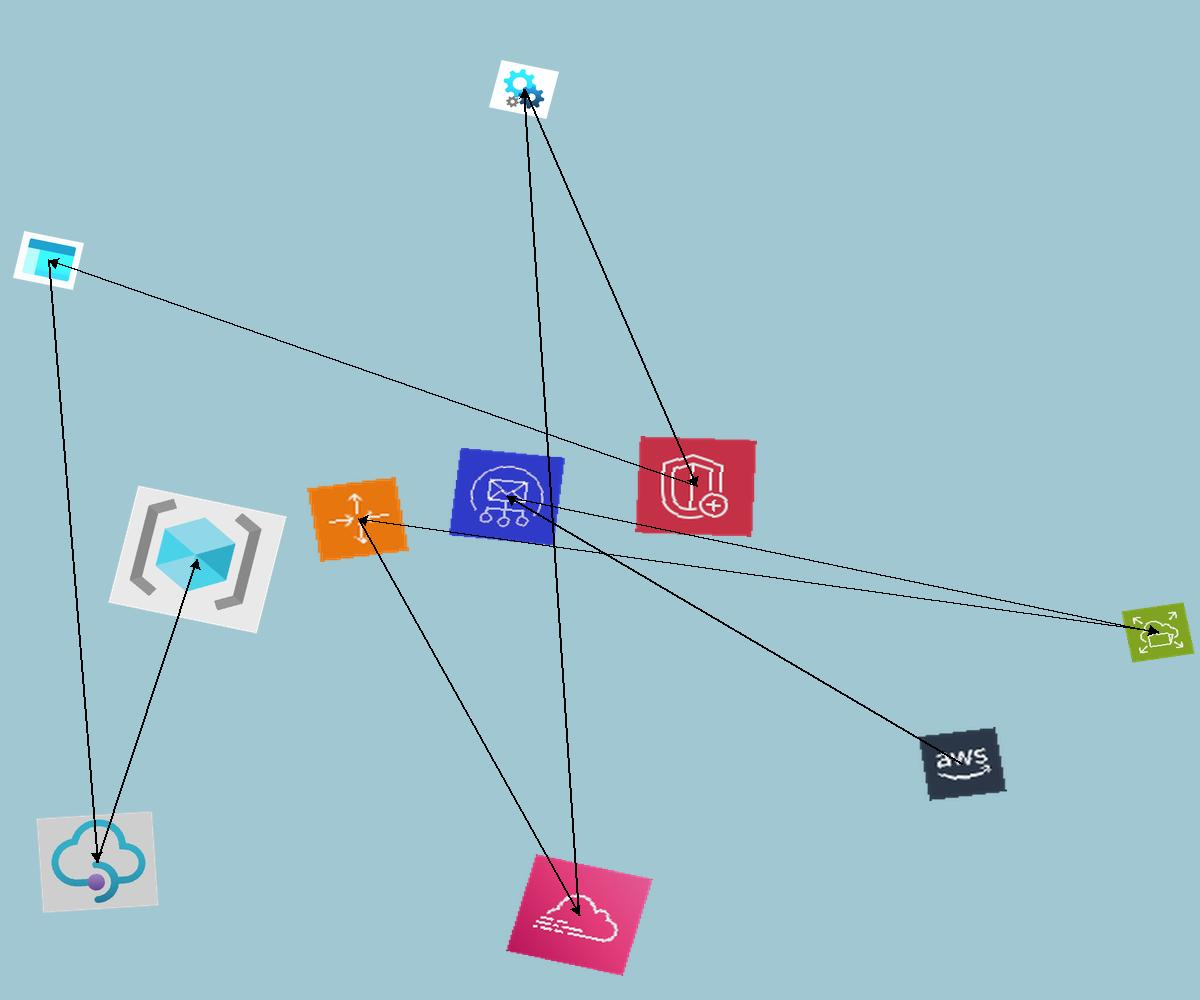AWS-Cloud-logo: (918, 727, 1007, 801)
AWS-CloudTrail: (506, 854, 653, 976)
AWS-EFS: (1121, 602, 1195, 663)
AWS-Scaling-group: (307, 477, 409, 562)
AWS-Shield: (635, 436, 757, 537)
AWS-Simple-Email-Service: (448, 447, 566, 546)
Azure_api: (489, 60, 559, 119)
Azure_api_gateway: (36, 811, 159, 913)
Azure_management-portal: (13, 231, 84, 290)
Azure_resource_group: (108, 485, 287, 634)
